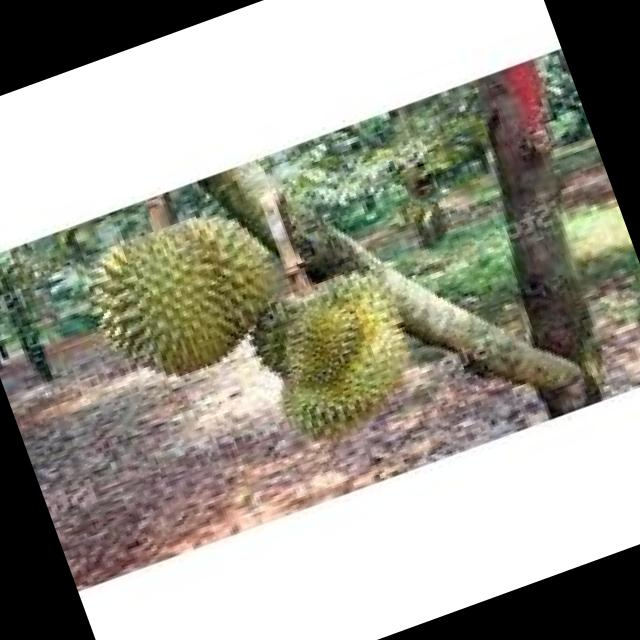fruit: (52, 178, 306, 416), (230, 228, 462, 466)
